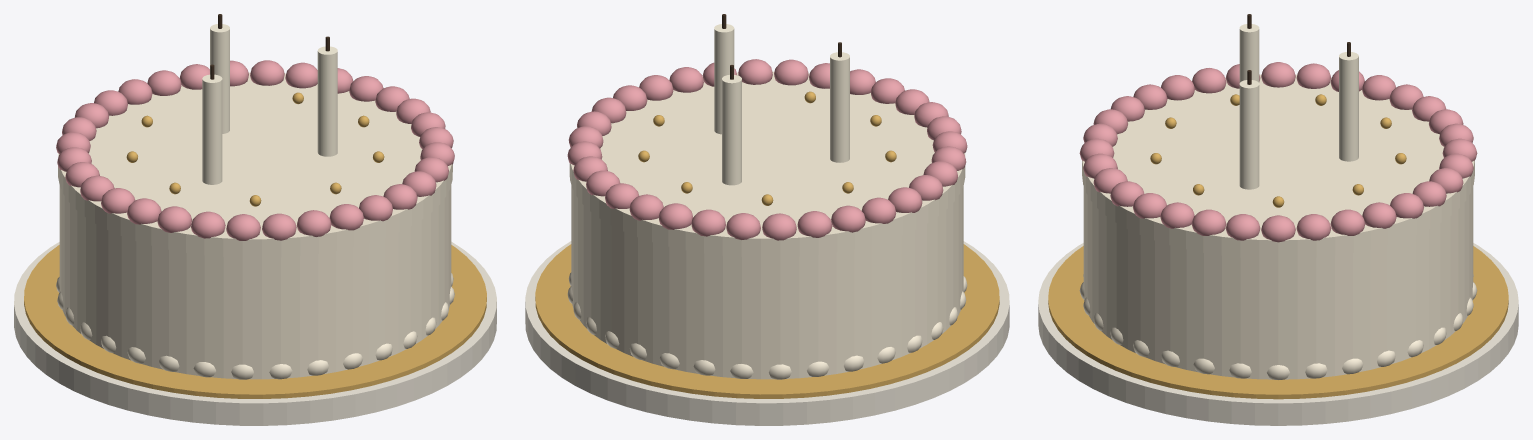
Rendered from cake.glb.
3 renders of one model, left to right at view 1: azimuth 30°, elevation 25°; view 2: azimuth 150°, elevation 25°; view 3: azimuth 270°, elevation 25°, orthographic.
Parts seen in each view (by area): view 1: vanilla cake, smooth frosting top, porcelain cake plate, gold plate rim, candle, candle.001, candle.002, piped rose cream.052, piped rose cream.054, piped rose cream.053, piped rose cream.051, piped rose cream.055 (+25 smaller); view 2: vanilla cake, smooth frosting top, porcelain cake plate, gold plate rim, candle.002, candle, candle.001, piped rose cream.043, piped rose cream.041, piped rose cream.042, piped rose cream.044, piped rose cream.045 (+26 smaller); view 3: vanilla cake, smooth frosting top, porcelain cake plate, gold plate rim, candle.001, candle.002, candle, piped rose cream.032, piped rose cream.033, piped rose cream.034, piped rose cream.062, piped rose cream.063 (+25 smaller).
Boxes of the visible parts, x1,y1,x2,y2 form: vanilla cake: (59, 185, 451, 379); smooth frosting top: (58, 72, 452, 258); porcelain cake plate: (14, 241, 496, 425); gold plate rim: (24, 245, 486, 398); candle: (202, 74, 222, 184); candle.001: (317, 46, 337, 156); candle.002: (210, 24, 229, 133); piped rose cream.052: (191, 211, 225, 238); piped rose cream.054: (262, 213, 296, 240); piped rose cream.053: (226, 214, 260, 240); piped rose cream.051: (157, 206, 191, 232); piped rose cream.055: (297, 210, 331, 236); vanilla cake: (571, 185, 963, 379); smooth frosting top: (569, 71, 965, 257); porcelain cake plate: (525, 241, 1009, 425); gold plate rim: (535, 244, 999, 398); candle.002: (722, 75, 741, 185); candle: (830, 52, 849, 162); candle.001: (714, 24, 734, 134); piped rose cream.043: (762, 213, 796, 240); piped rose cream.041: (691, 209, 725, 236); piped rose cream.042: (726, 213, 760, 239); piped rose cream.044: (797, 211, 832, 237); piped rose cream.045: (831, 205, 865, 232); vanilla cake: (1083, 186, 1473, 379); smooth frosting top: (1082, 74, 1474, 258); porcelain cake plate: (1038, 243, 1518, 425); gold plate rim: (1048, 246, 1508, 399); candle.001: (1239, 80, 1259, 189); candle.002: (1339, 52, 1358, 161); candle: (1239, 24, 1259, 82); piped rose cream.032: (1261, 215, 1295, 242); piped rose cream.033: (1296, 214, 1331, 240); piped rose cream.034: (1330, 209, 1365, 235); piped rose cream.062: (1191, 209, 1226, 235); piped rose cream.063: (1225, 214, 1260, 240).
Bounding box in the file's own units: 0.58 × 0.375 × 0.58.
